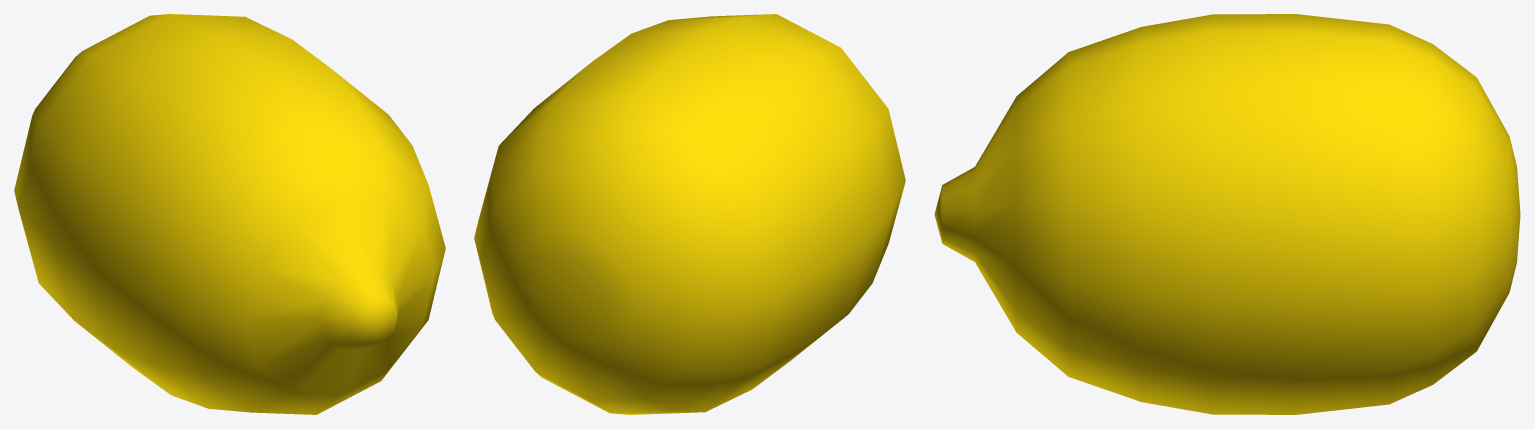
File: Whole Lemon.FBX
3 renders of one model, left to right at view 1: azimuth 30°, elevation 25°; view 2: azimuth 150°, elevation 25°; view 3: azimuth 270°, elevation 25°, orthographic. The views are drawn at different scales.
Visible parts, largest first — view 1: Capsule001; view 2: Capsule001; view 3: Capsule001.
Boxes of the visible parts, x1,y1,x2,y2 form: Capsule001: (14, 14, 445, 414); Capsule001: (474, 14, 905, 414); Capsule001: (934, 14, 1520, 414).
Size of the model in its own units: 69.42 by 69.42 by 101.
